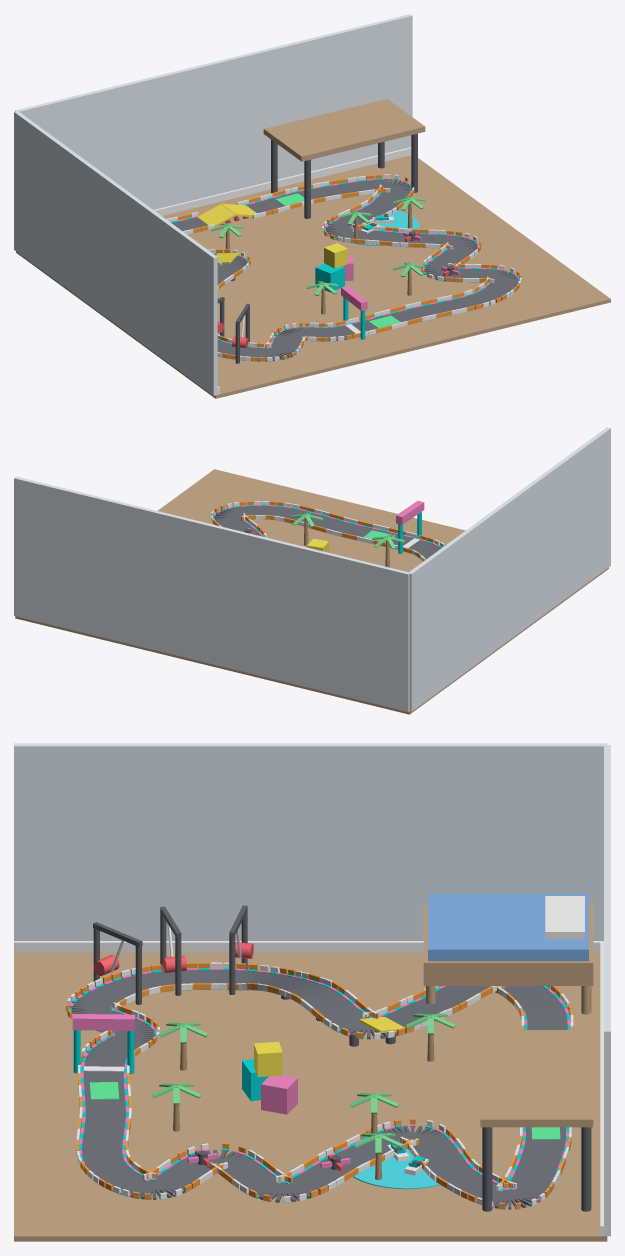
The model's file is miami_f1_kids_room_track.glb.
3 views of the same model, one above another, from view 1: azimuth 30°, elevation 25°; view 2: azimuth 150°, elevation 25°; view 3: azimuth 270°, elevation 25° (orthographic). The views are drawn at different scales.
Visible parts, largest first — view 1: Room_Floor, Wall_Back, Wall_Left, Desk_Top, Baseboard_Back, ToyBlock_Teal; view 2: Wall_Back, Wall_Left, Room_Floor; view 3: Wall_Left, Room_Floor, Desk_Top, Bed_Mattress, Bed_Frame, Baseboard_Left, Wall_Back, Bed_Pillow, Miami_Marina_Lagoon, ToyBlock_Pink, Baseboard_Back, Start_Arch_Banner (+4 smaller).
Part boxes in pixels (x1,y1,x2,y2): Room_Floor: (16, 155, 610, 398); Wall_Back: (15, 14, 412, 209); Wall_Left: (14, 111, 217, 395); Desk_Top: (263, 99, 425, 161); Baseboard_Back: (154, 147, 411, 215); ToyBlock_Teal: (315, 263, 344, 292); Wall_Back: (14, 476, 410, 711); Wall_Left: (408, 427, 610, 711); Room_Floor: (15, 469, 608, 714); Wall_Left: (14, 743, 607, 940); Room_Floor: (14, 952, 607, 1241); Desk_Top: (480, 1030, 593, 1127); Bed_Mattress: (428, 893, 588, 961); Bed_Frame: (423, 903, 593, 985); Baseboard_Left: (14, 941, 603, 952); Wall_Back: (604, 745, 610, 1236); Bed_Pillow: (545, 896, 584, 939); Miami_Marina_Lagoon: (353, 1149, 440, 1189); ToyBlock_Pink: (261, 1075, 297, 1114); Baseboard_Back: (600, 942, 608, 1236); Start_Arch_Banner: (72, 1014, 135, 1030).
Size of the model in its own units: 48.25 by 16.4 by 42.25.
